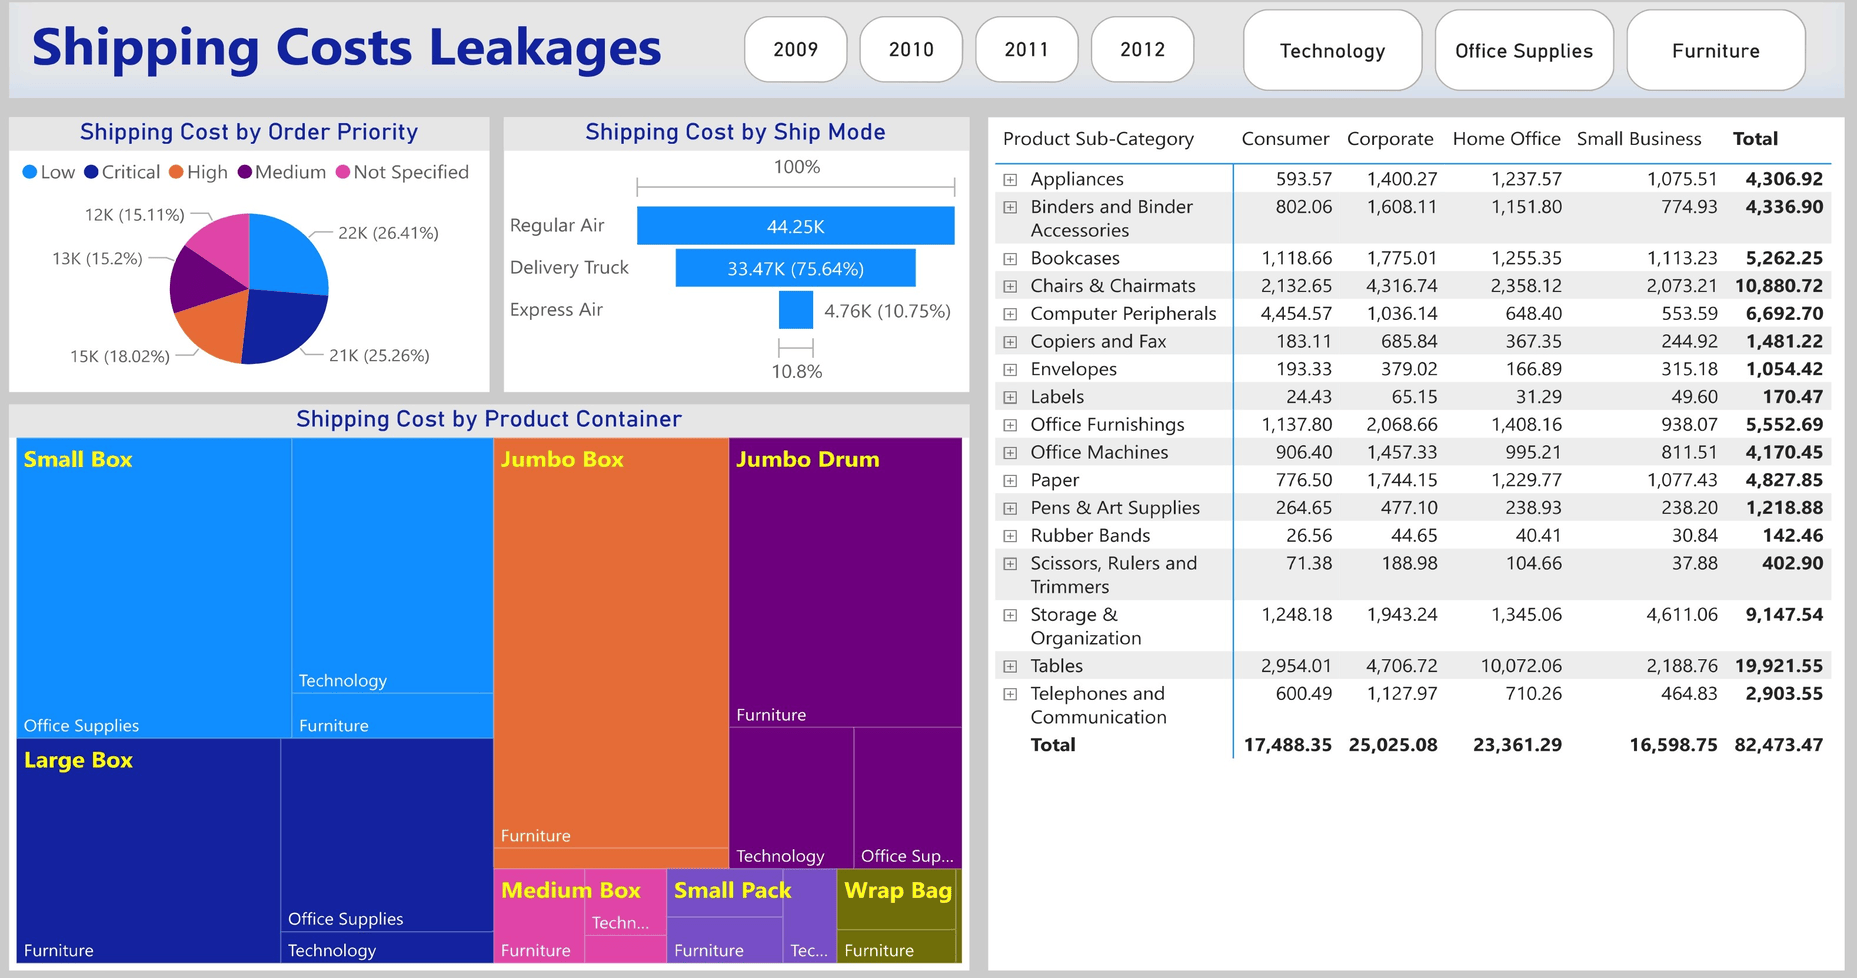

The dashboard page shown, as its layout file describes it:
{"tool":"powerbi","page":{"name":"Bottom-Up Analysis","canvas":[1280,720],"ordinal":1},"visuals":[{"type":"textbox","box":[10.5,9.3,1253.5,68.6],"z":0},{"type":"treemap","title":"Shipping Cost by Product Container","fields":{"Group":["Orders.Product Container"],"Values":["Sum(Orders.Shipping Cost)"],"Details":["Orders.Product Category"]},"box":[10.5,298.8,655.8,408.1],"z":1000},{"type":"pivotTable","fields":{"Values":["Sum(Orders.Shipping Cost)"],"Rows":["Orders.Product Sub-Category","Orders.Region"],"Columns":["Orders.Customer Segment"]},"box":[679.1,91.9,584.9,615.1],"z":2000},{"type":"funnel","fields":{"Category":["Orders.Ship Mode"],"Y":["Sum(Orders.Shipping Cost)"]},"box":[347.7,91.9,318.6,197.7],"z":5000},{"type":"advancedSlicerVisual","fields":{"Values":["Orders.Product Category"]},"box":[827.9,9.3,436,68.6],"z":5001},{"type":"advancedSlicerVisual","fields":{"Values":["Orders.Ship Date.Variation.Date Hierarchy.Year"]},"box":[487.2,14,358.1,58.1],"z":5002},{"type":"pieChart","fields":{"Y":["Sum(Orders.Shipping Cost)"],"Category":["Orders.Order Priority"]},"box":[10.5,91.9,327.9,197.7],"z":5003}]}

Visuals, with their boxes on the page's 1280x720 design canvas (x1, y1, x2, y2). These are canvas units, not pixel positions in the 1857x978 screenshot, which may show the page scaled, cropped or inside an application window:
textbox: <bbox>10, 9, 1264, 78</bbox>
"Shipping Cost by Product Container" treemap: <bbox>10, 299, 666, 707</bbox>
pivotTable - Sum(Orders.Shipping Cost) x Orders.Product Sub-Category: <bbox>679, 92, 1264, 707</bbox>
funnel - Orders.Ship Mode x Sum(Orders.Shipping Cost): <bbox>348, 92, 666, 290</bbox>
advancedSlicerVisual - Orders.Product Category: <bbox>828, 9, 1264, 78</bbox>
advancedSlicerVisual - Orders.Ship Date.Variation.Date Hierarchy.Year: <bbox>487, 14, 845, 72</bbox>
pieChart - Sum(Orders.Shipping Cost) x Orders.Order Priority: <bbox>10, 92, 338, 290</bbox>
